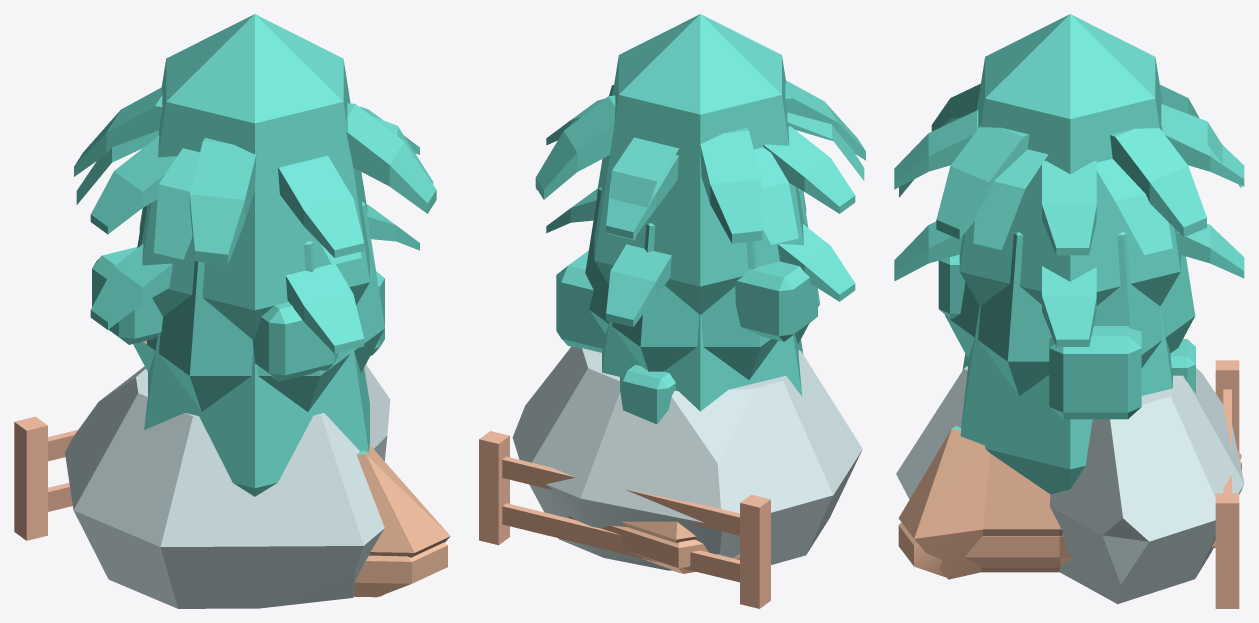
Rendered from nature.glb.
3 renders of one model, left to right at view 1: azimuth 30°, elevation 25°; view 2: azimuth 150°, elevation 25°; view 3: azimuth 270°, elevation 25°, orthographic. The views are drawn at different scales.
Parts seen in each view (by area): view 1: stone_largeD, tree_default, leafs (×2), tree_fat, tree_oak, tree_palmShort, tree_detailed, tree_palmTall, tree_palmBend, fence_simple, rock_largeB, rock_largeA; view 2: stone_largeD, tree_default, leafs (×2), fence_simple, tree_detailed, tree_oak, tree_palmShort, tree_palmBend, tree_fat, tree_palmTall, rock_largeA, rock_largeB; view 3: tree_default, stone_largeD, leafs (×2), rock_largeB, tree_oak, tree_fat, tree_detailed, tree_palmBend, tree_palmShort, tree_palmTall, fence_simple, rock_largeA.
Part boxes in pixels (x1,y1,x2,y2): stone_largeD: (65, 364, 390, 608); tree_default: (139, 14, 369, 339); leafs (×2): (74, 87, 436, 264); tree_fat: (144, 333, 369, 496); tree_oak: (133, 201, 384, 411); tree_palmShort: (90, 204, 419, 353); tree_detailed: (92, 247, 384, 381); tree_palmTall: (105, 106, 382, 233); tree_palmBend: (76, 116, 433, 264); fence_simple: (14, 416, 77, 540); rock_largeB: (356, 445, 450, 596); rock_largeA: (354, 542, 447, 597); stone_largeD: (512, 346, 862, 570); tree_default: (594, 14, 806, 314); leafs (×2): (535, 80, 865, 243); fence_simple: (479, 431, 770, 608); tree_detailed: (556, 250, 817, 424); tree_oak: (585, 187, 819, 379); tree_palmShort: (546, 188, 855, 326); tree_palmBend: (536, 85, 864, 244); tree_fat: (602, 314, 803, 411); tree_palmTall: (546, 98, 839, 238); rock_largeA: (568, 515, 739, 573); rock_largeB: (621, 521, 696, 573); tree_default: (959, 14, 1180, 305); stone_largeD: (896, 366, 1244, 604); leafs (×2): (894, 83, 1244, 255); rock_largeB: (898, 425, 1241, 579); tree_oak: (945, 232, 1195, 396); tree_fat: (960, 306, 1172, 494); tree_detailed: (938, 254, 1195, 419); tree_palmBend: (899, 104, 1241, 254); tree_palmShort: (894, 221, 1244, 346); tree_palmTall: (894, 110, 1223, 254); fence_simple: (1215, 360, 1239, 608); rock_largeA: (898, 461, 1241, 577).
Size of the model in its own units: 1.07 by 1.71 by 1.03.
